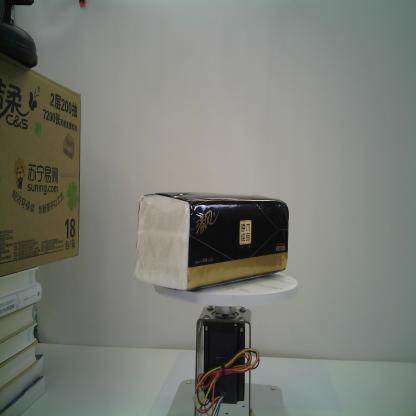Tissue: (134, 191, 290, 293)
